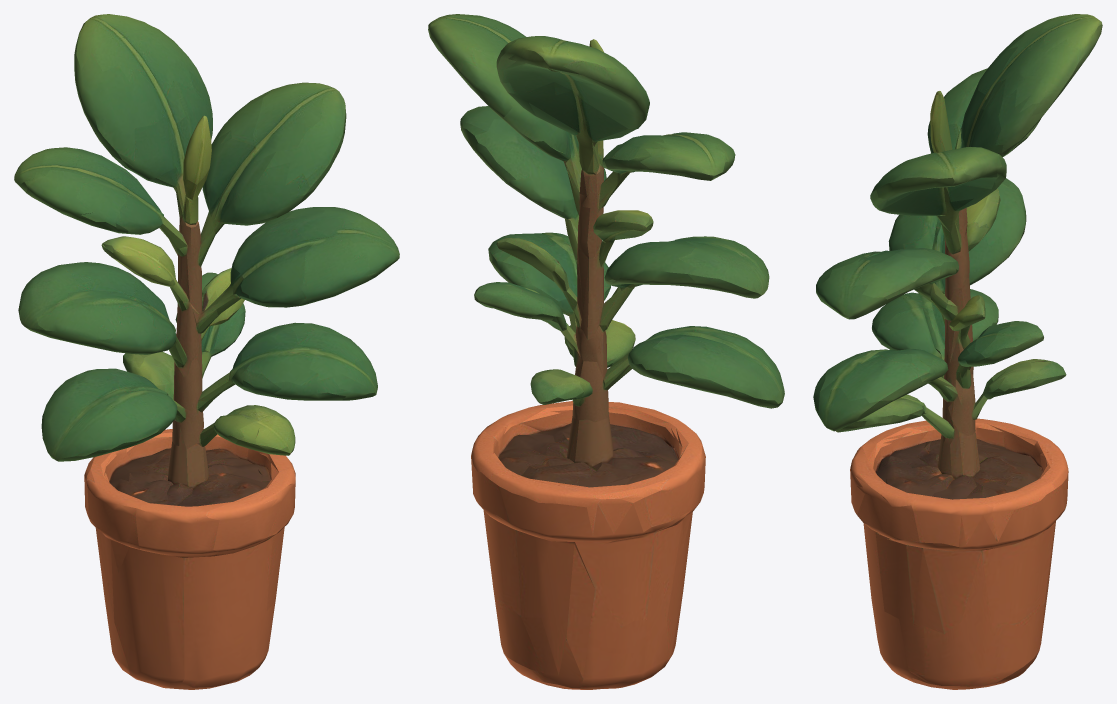
The model's file is plant_big.glb.
3 views of the same model, side by side, from view 1: azimuth 30°, elevation 25°; view 2: azimuth 150°, elevation 25°; view 3: azimuth 270°, elevation 25° (orthographic). The views are drawn at different scales.
Visible parts, largest first — view 1: mesh_node; view 2: mesh_node; view 3: mesh_node.
Boxes of the visible parts, left/top/right/bottom form: mesh_node: left=14, top=14, right=399, bottom=689; mesh_node: left=428, top=14, right=784, bottom=689; mesh_node: left=813, top=14, right=1102, bottom=689.
Bounding box in the file's own units: 0.3249 × 0.59 × 0.246.
1 material, 1 textured.
